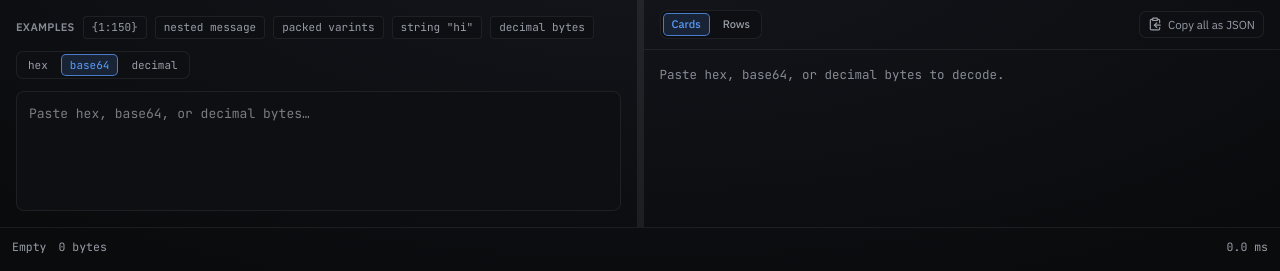
Test: ProtobufDecoder › an example chip click clears a stale forced override — auto-detect flips to hex
Type "6869" into the text box with placeholder "Paste hex, base64, or decimal bytes…" at (318, 151), box [16, 91, 620, 211]
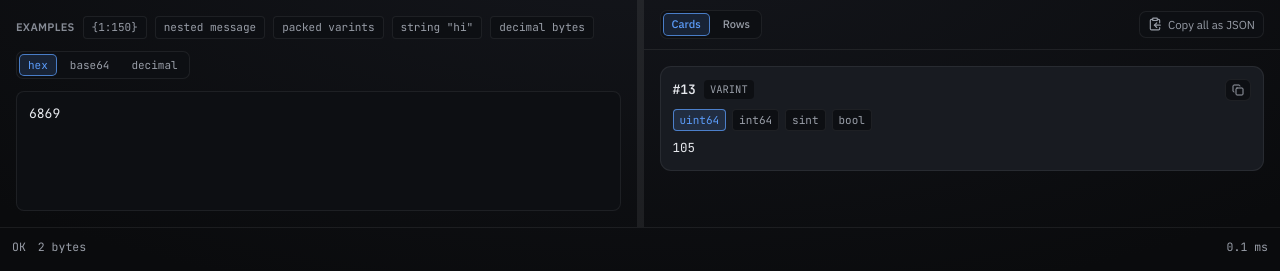
Now the button "base64" is not pressed
Click the button "base64" at (90, 65), box [61, 54, 118, 76]
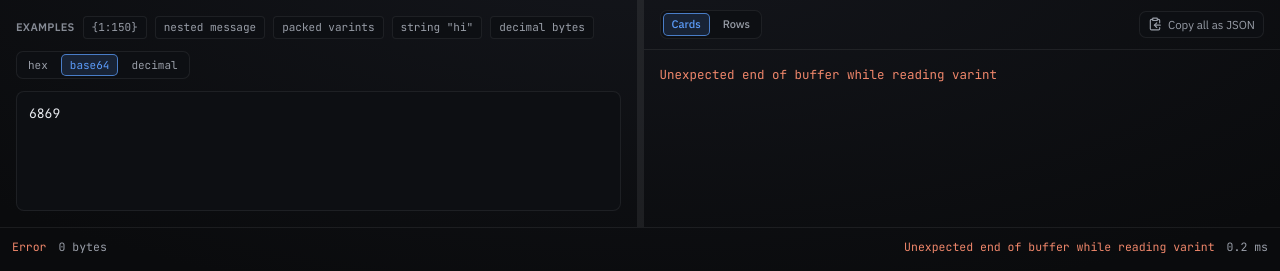
Now the button "base64" is pressed, box [61, 54, 118, 76]
Click the button "{1:150}" at (115, 27), box [82, 16, 147, 38]
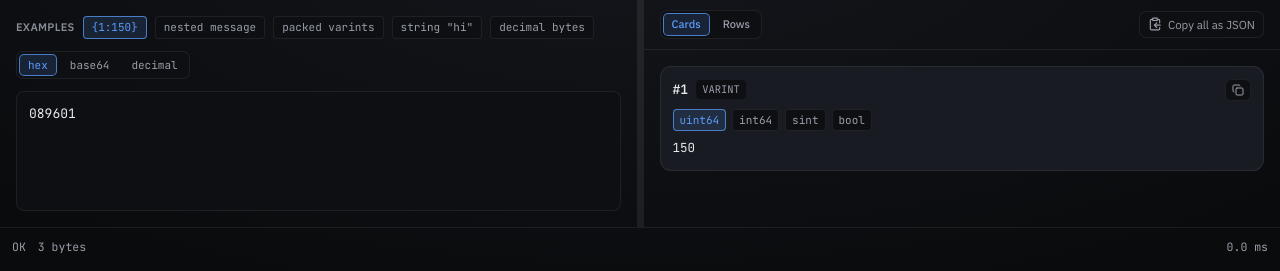
Now the text "#1" is shown, box [672, 80, 688, 99]
Now the message "Unexpected end of buffer while reading varint" is gone
